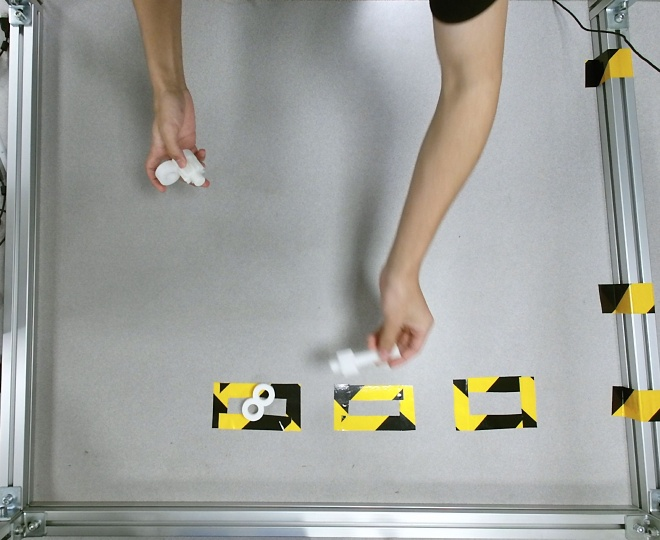stage_2: (154, 149, 206, 187)
